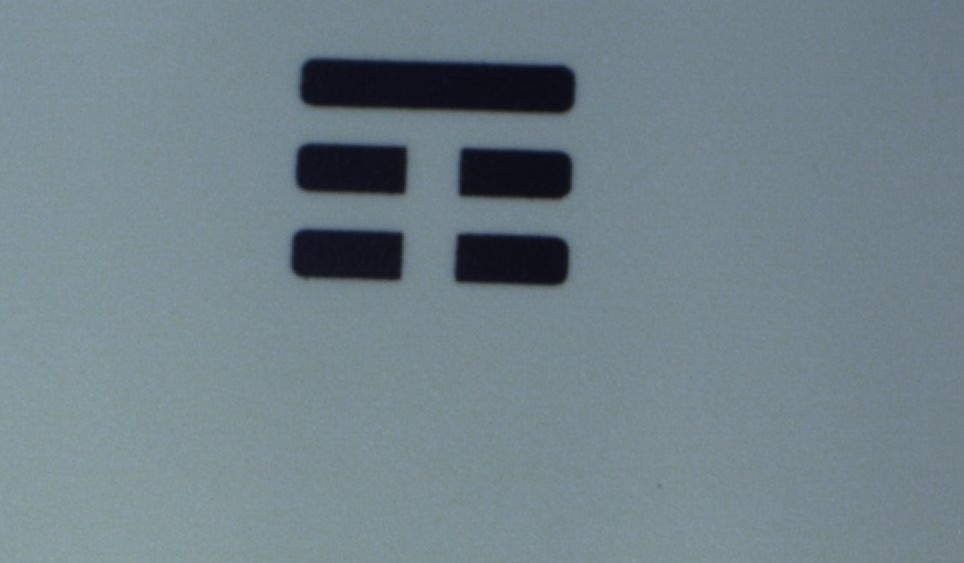BV_F6600PTIM: (260, 48, 592, 290)
